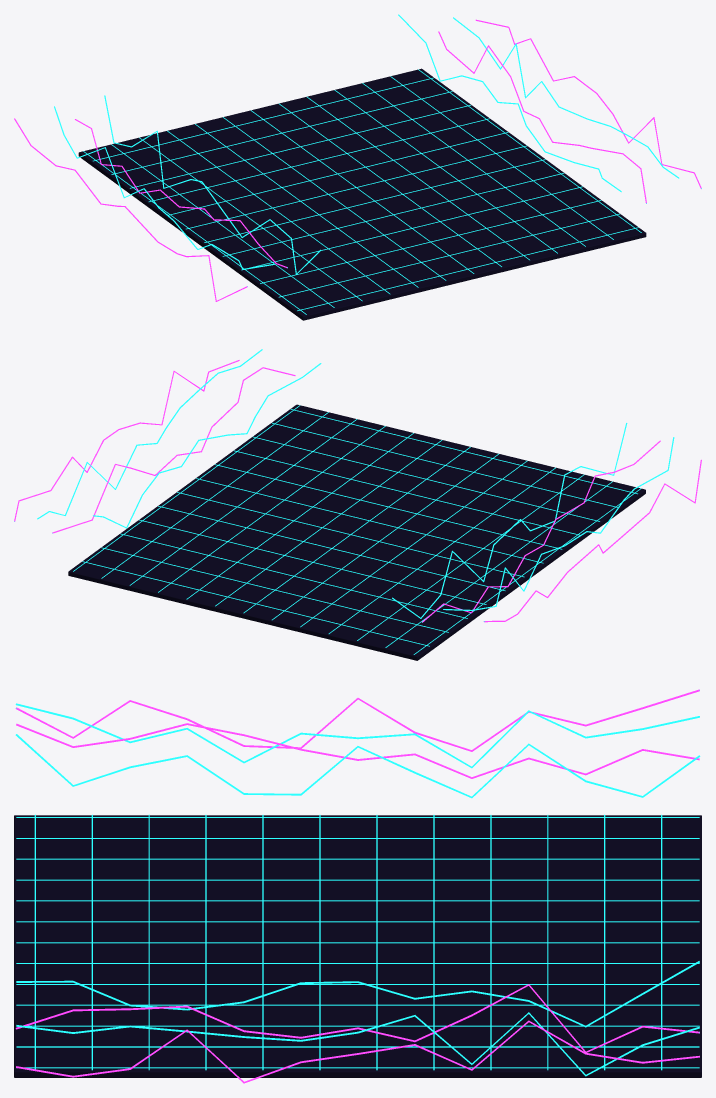
The model's file is synthwave_horizon_valley_shell.glb.
The picture shows the model from 3 angles, top to bottom: view 1: azimuth 30°, elevation 25°; view 2: azimuth 150°, elevation 25°; view 3: azimuth 270°, elevation 25°; orthographic projection. The views are drawn at different scales.
Parts seen in each view (by area): view 1: Synthwave Black Runway, Left Wire Ridge 1, Right Wire Ridge 4, Right Wire Ridge 3, Right Wire Ridge 2, Left Wire Ridge 4, Left Wire Ridge 3, Right Wire Ridge 1, Left Wire Ridge 2, Grid Crossline -8.5, Grid Crossline -7.0; view 2: Synthwave Black Runway, Left Wire Ridge 1, Left Wire Ridge 3, Right Wire Ridge 4, Right Wire Ridge 2, Left Wire Ridge 4, Right Wire Ridge 3, Left Wire Ridge 2, Right Wire Ridge 1, Grid Crossline +6.5, Grid Crossline +8.0, Grid Crossline -1.0 (+2 smaller); view 3: Synthwave Black Runway, Left Wire Ridge 1, Right Wire Ridge 4, Right Wire Ridge 2, Left Wire Ridge 3, Left Wire Ridge 4, Right Wire Ridge 3, Left Wire Ridge 2, Right Wire Ridge 1, Grid Longitudinal -3.9, Grid Longitudinal -5.2, Grid Longitudinal -2.6 (+10 smaller).
Boxes of the visible parts, x1=… form: Synthwave Black Runway: x1=78, y1=68, x2=646, y2=320; Left Wire Ridge 1: x1=104, y1=95, x2=320, y2=274; Right Wire Ridge 4: x1=475, y1=19, x2=701, y2=189; Right Wire Ridge 3: x1=453, y1=17, x2=678, y2=178; Right Wire Ridge 2: x1=438, y1=31, x2=646, y2=203; Left Wire Ridge 4: x1=14, y1=118, x2=247, y2=301; Left Wire Ridge 3: x1=54, y1=106, x2=274, y2=269; Right Wire Ridge 1: x1=398, y1=14, x2=621, y2=192; Left Wire Ridge 2: x1=75, y1=119, x2=287, y2=268; Grid Crossline -8.5: x1=297, y1=227, x2=638, y2=310; Grid Crossline -7.0: x1=278, y1=213, x2=619, y2=297; Synthwave Black Runway: x1=68, y1=404, x2=645, y2=660; Left Wire Ridge 1: x1=392, y1=423, x2=627, y2=618; Left Wire Ridge 3: x1=443, y1=437, x2=674, y2=610; Right Wire Ridge 4: x1=14, y1=360, x2=239, y2=521; Right Wire Ridge 2: x1=52, y1=367, x2=295, y2=533; Left Wire Ridge 4: x1=483, y1=459, x2=701, y2=622; Right Wire Ridge 3: x1=37, y1=349, x2=262, y2=518; Left Wire Ridge 2: x1=422, y1=440, x2=660, y2=622; Right Wire Ridge 1: x1=94, y1=363, x2=321, y2=528; Grid Crossline +6.5: x1=101, y1=547, x2=448, y2=632; Grid Crossline +8.0: x1=82, y1=561, x2=429, y2=646; Grid Crossline -1.0: x1=196, y1=478, x2=543, y2=563; Synthwave Black Runway: x1=14, y1=815, x2=701, y2=1077; Left Wire Ridge 1: x1=15, y1=734, x2=700, y2=798; Right Wire Ridge 4: x1=16, y1=1020, x2=699, y2=1083; Right Wire Ridge 2: x1=15, y1=984, x2=699, y2=1052; Left Wire Ridge 3: x1=15, y1=703, x2=699, y2=768; Left Wire Ridge 4: x1=15, y1=689, x2=699, y2=751; Right Wire Ridge 3: x1=16, y1=1012, x2=699, y2=1076; Left Wire Ridge 2: x1=16, y1=723, x2=699, y2=778; Right Wire Ridge 1: x1=16, y1=961, x2=699, y2=1027; Grid Longitudinal -3.9: x1=16, y1=879, x2=699, y2=880; Grid Longitudinal -5.2: x1=16, y1=858, x2=699, y2=859; Grid Longitudinal -2.6: x1=16, y1=900, x2=699, y2=901.
Bounding box in the file's own units: 22.33 × 2.96 × 18.12.
